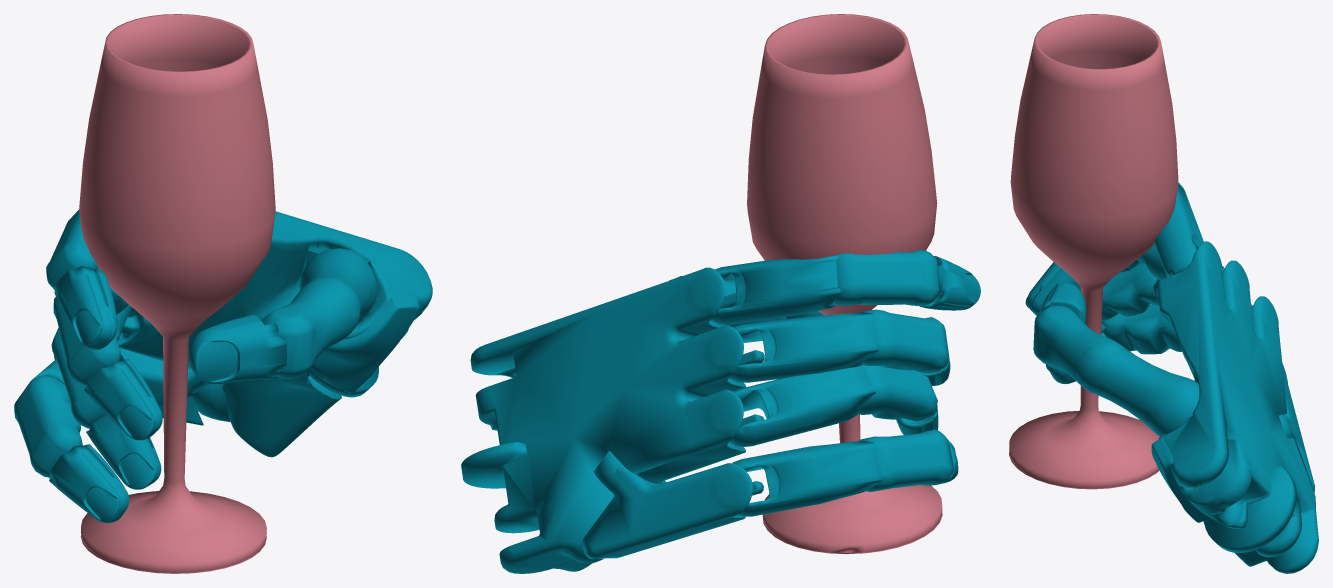
The picture shows the model from 3 angles, left to right: view 1: azimuth 30°, elevation 25°; view 2: azimuth 150°, elevation 25°; view 3: azimuth 270°, elevation 25°; orthographic projection. The views are drawn at different scales.
Visible parts, largest first — view 1: world; view 2: world; view 3: world.
Part boxes in pixels (x1,y1,x2,y2): world: (14, 14, 432, 573); world: (461, 14, 980, 573); world: (1009, 14, 1318, 573).
Size of the model in its own units: 0.1698 by 0.1922 by 0.1202.
